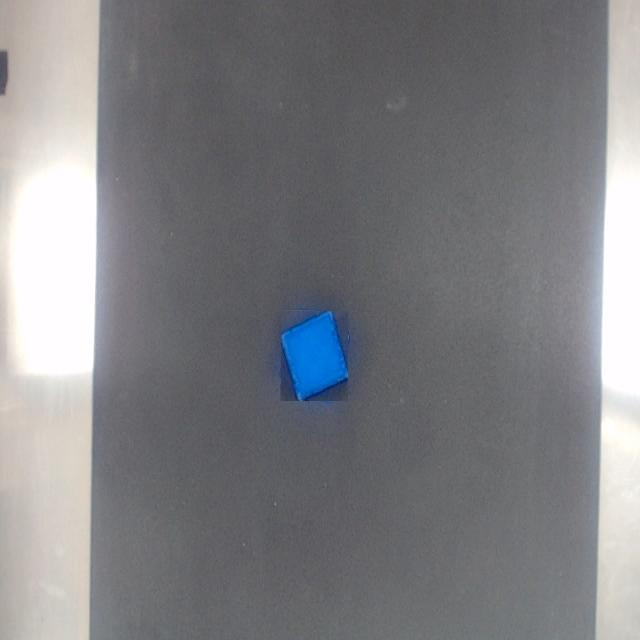Azul: (281, 311, 348, 401)
